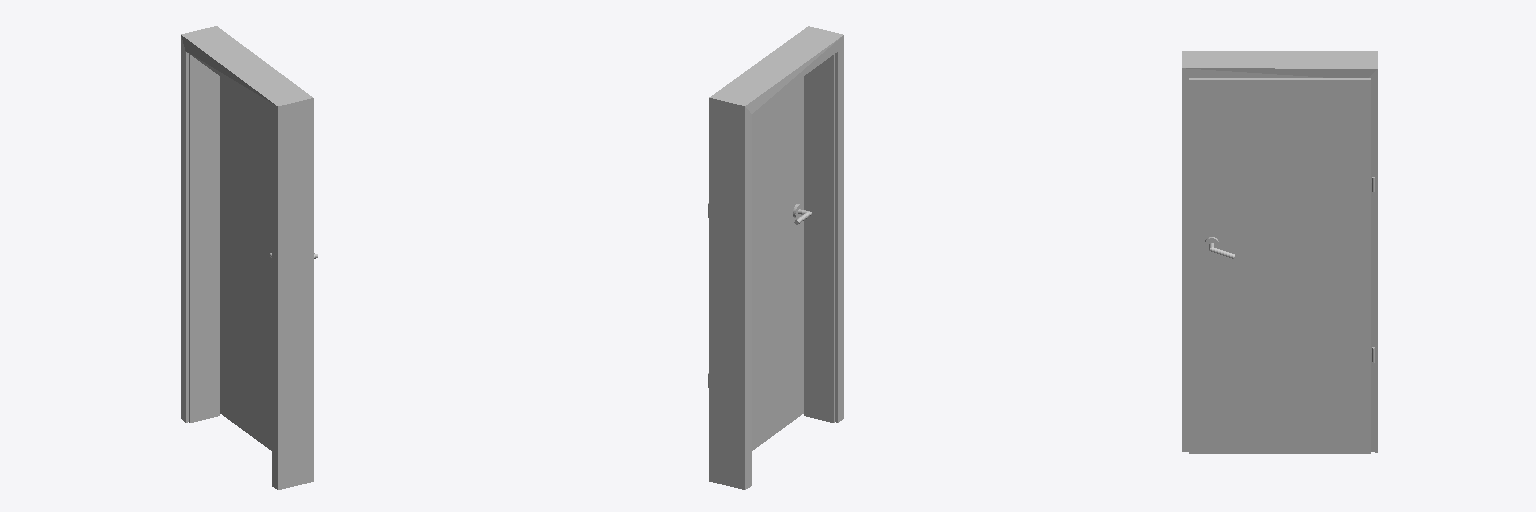
File: door43.obj
3 views of the same model, side by side, from view 1: azimuth 30°, elevation 25°; view 2: azimuth 150°, elevation 25°; view 3: azimuth 270°, elevation 25° (orthographic).
Visible parts, largest first — view 1: Cylinder.005, Cylinder.001; view 2: Cylinder.005, Cylinder.001; view 3: Cylinder.001, Cylinder.005.
Part boxes in pixels (left/top/right/bottom): Cylinder.005: left=181, top=26, right=313, bottom=489; Cylinder.001: left=220, top=77, right=271, bottom=450; Cylinder.005: left=708, top=26, right=843, bottom=489; Cylinder.001: left=708, top=77, right=803, bottom=450; Cylinder.001: left=1189, top=78, right=1374, bottom=453; Cylinder.005: left=1182, top=51, right=1377, bottom=452.
Size of the model in its own units: 0.3039 by 2.05 by 0.95.